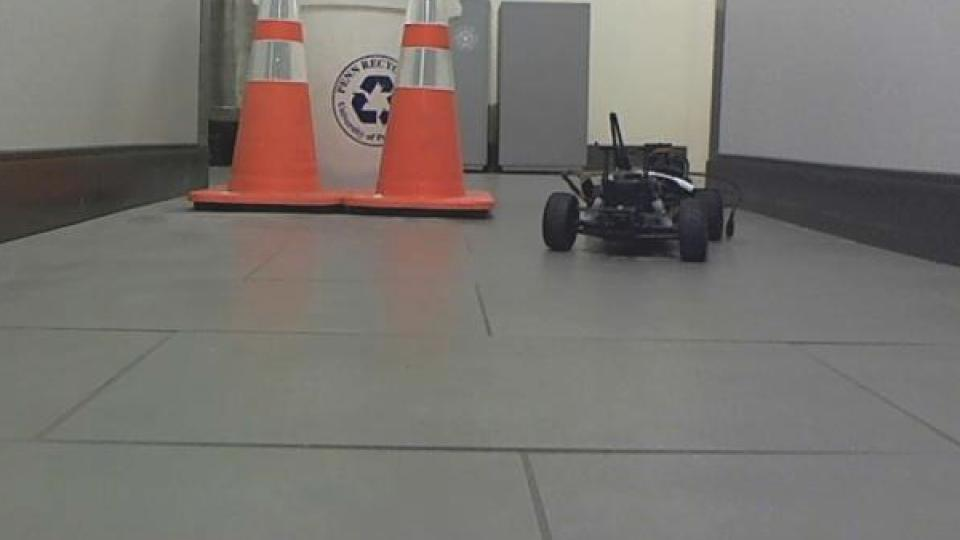car: (539, 109, 746, 265)
